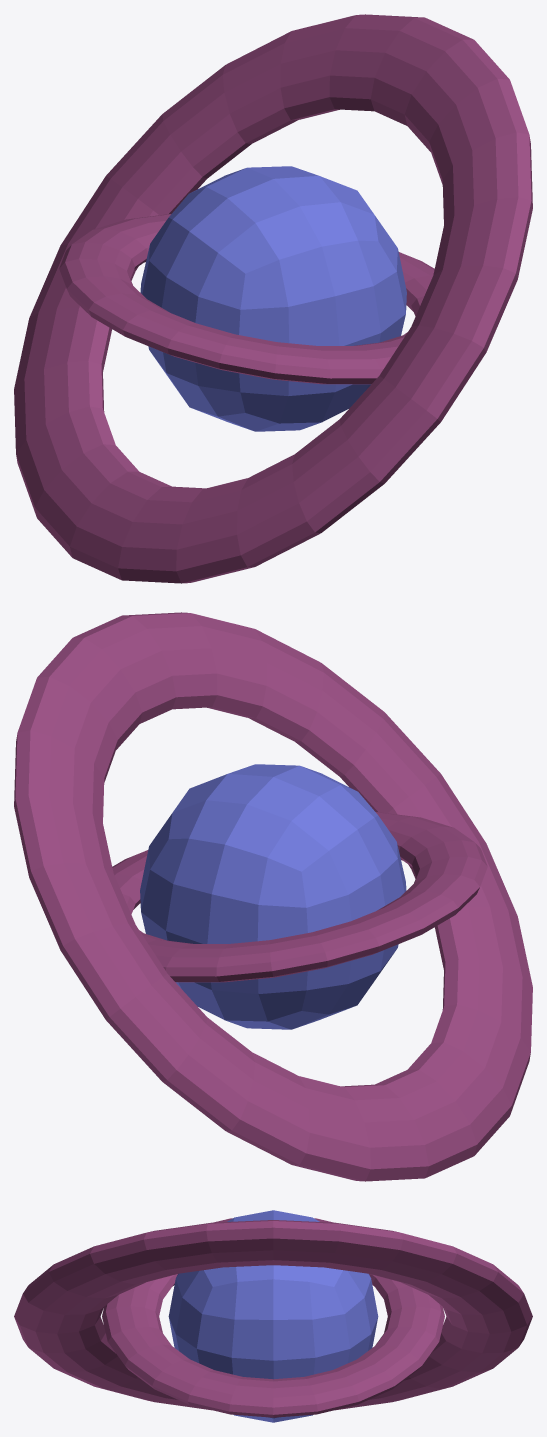
Rendered from SM_planet_01.FBX.
3 views of the same model, one above another, from view 1: azimuth 30°, elevation 25°; view 2: azimuth 150°, elevation 25°; view 3: azimuth 270°, elevation 25° (orthographic). The views are drawn at different scales.
Visible parts, largest first — view 1: SM_planet_01; view 2: SM_planet_01; view 3: SM_planet_01.
Boxes of the visible parts, x1,y1,x2,y2 form: SM_planet_01: [14, 14, 532, 583]; SM_planet_01: [14, 612, 532, 1181]; SM_planet_01: [14, 1210, 532, 1422].
Bounding box in the file's own units: 39.04 × 39.04 × 54.46.
